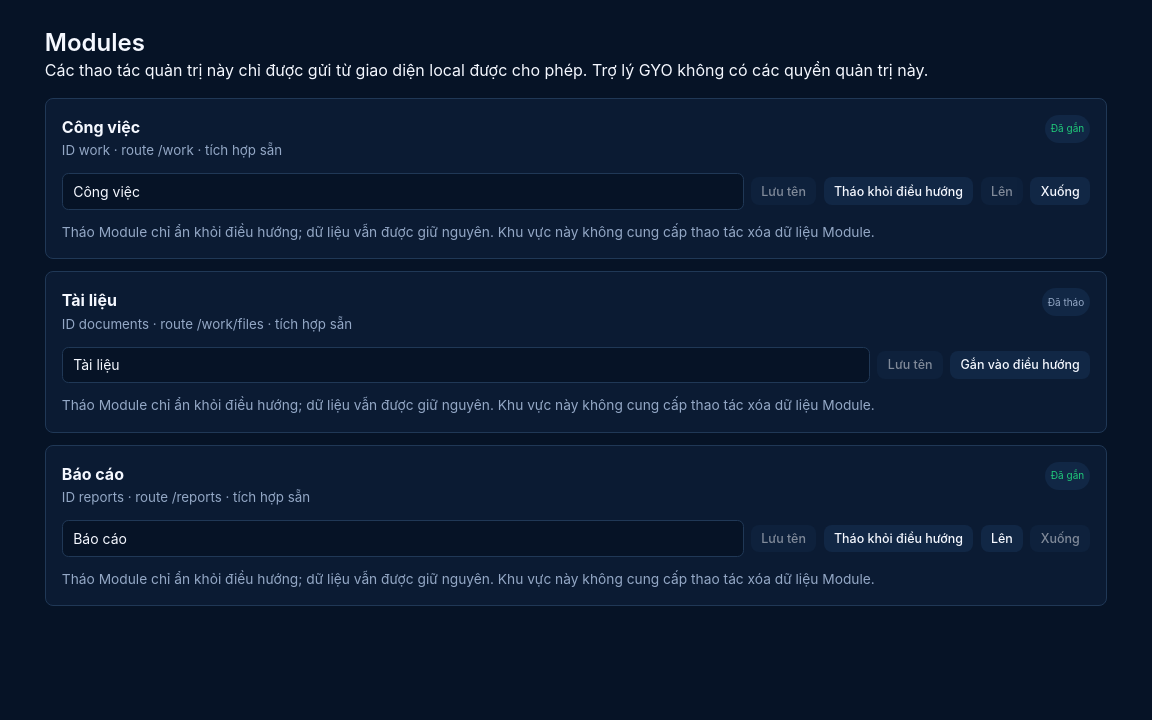
ModulesSettings › renames display text without changing Module identity
The width and height of the screenshot is (1152, 720).
Replace the text in the field named "Tên hiển thị cho documents" with "Hồ sơ" at (466, 365), box [62,347,870,383]
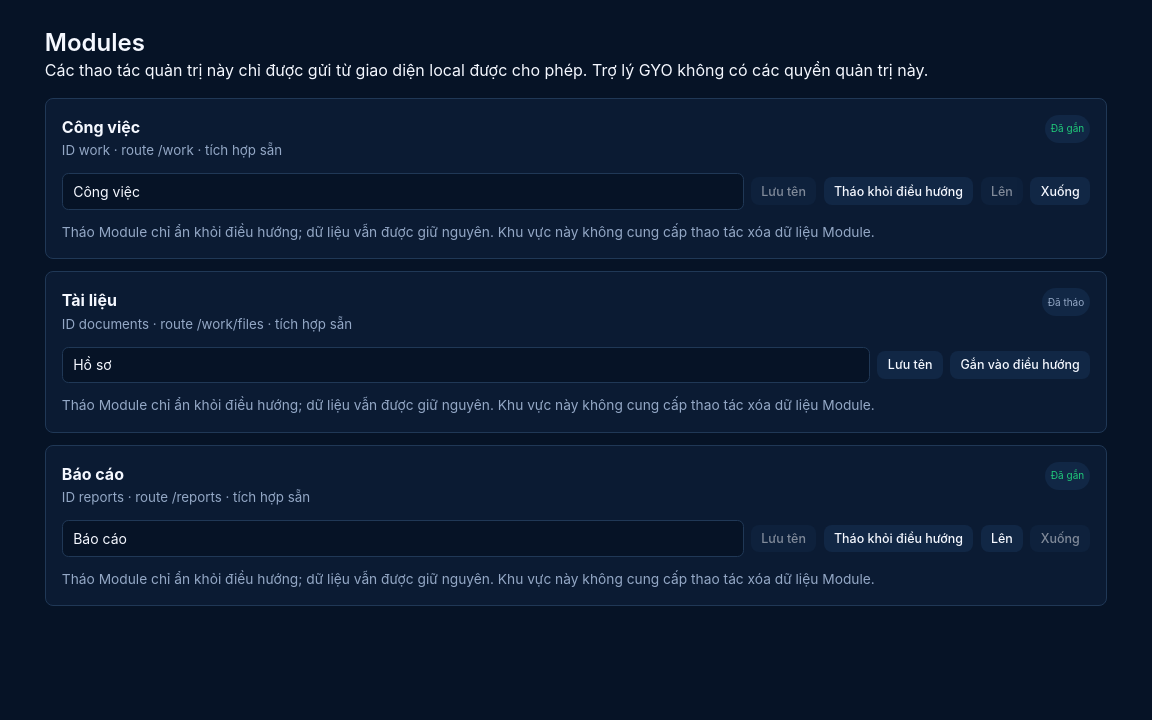
Click the button "Lưu tên" below "Đã tháo" at (910, 365), box [878,351,943,379]
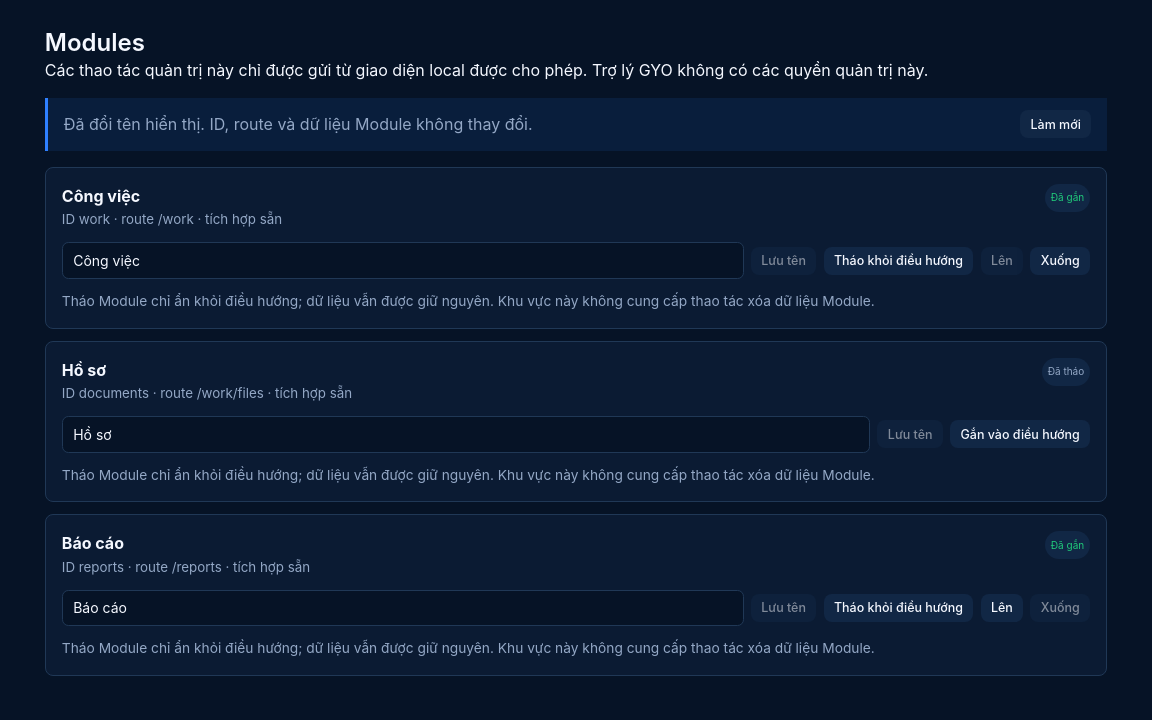
Expected: the text "Tài liệu" reads "Hồ sơ", [62,360,106,380]
